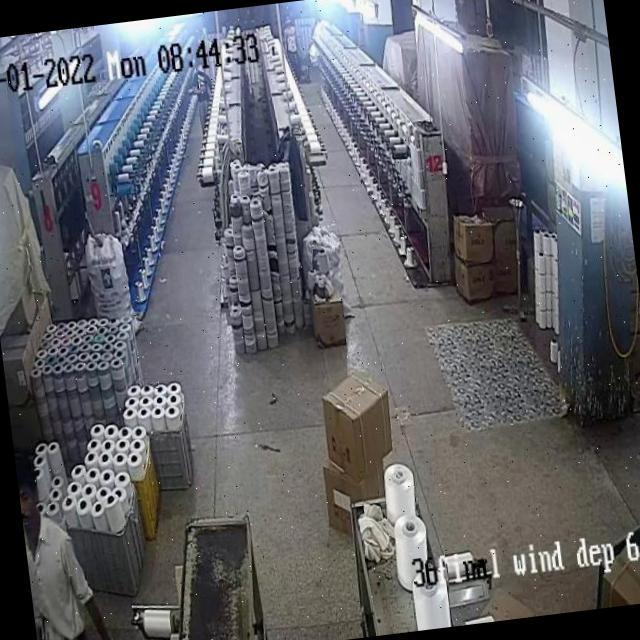person: (16, 459, 106, 640), (190, 58, 217, 126), (281, 11, 298, 62)
